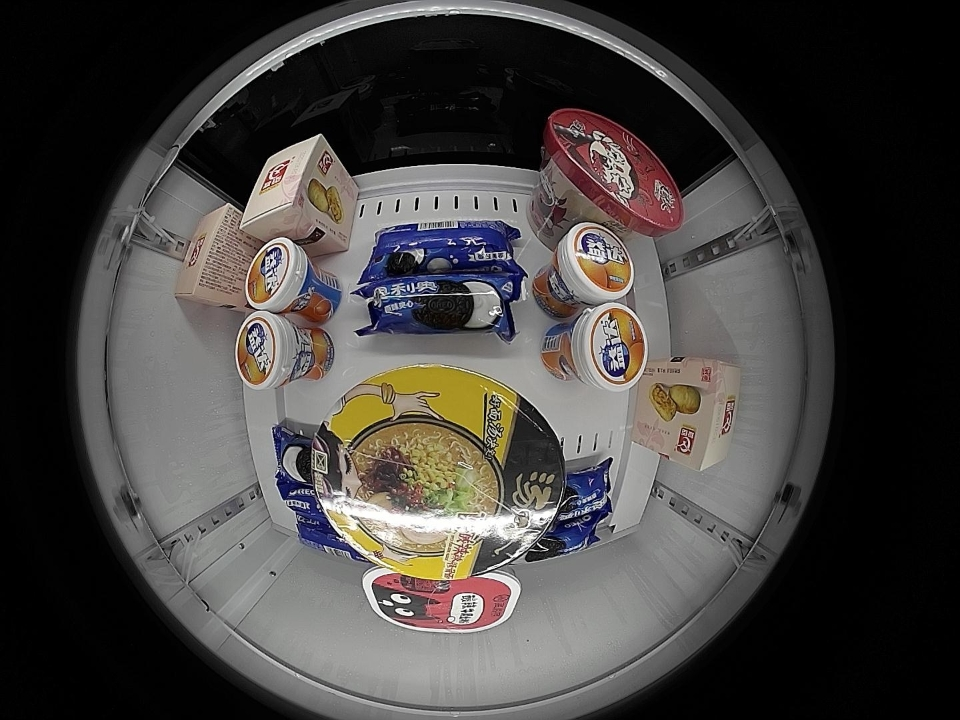aoliao: (363, 272, 519, 334), (366, 218, 521, 277), (526, 510, 604, 565), (269, 428, 332, 484), (556, 461, 611, 517), (297, 523, 371, 564), (274, 480, 333, 520)
niudufen: (364, 568, 522, 632)
rousongbing: (242, 133, 336, 239), (665, 357, 741, 473), (175, 203, 245, 308)
suanlafen: (544, 109, 685, 233)
tangdaren2: (311, 365, 566, 581)
yida: (564, 303, 648, 392), (554, 222, 635, 303), (235, 311, 303, 391), (244, 237, 313, 313)
